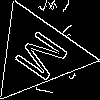M: (12, 28, 78, 89)
